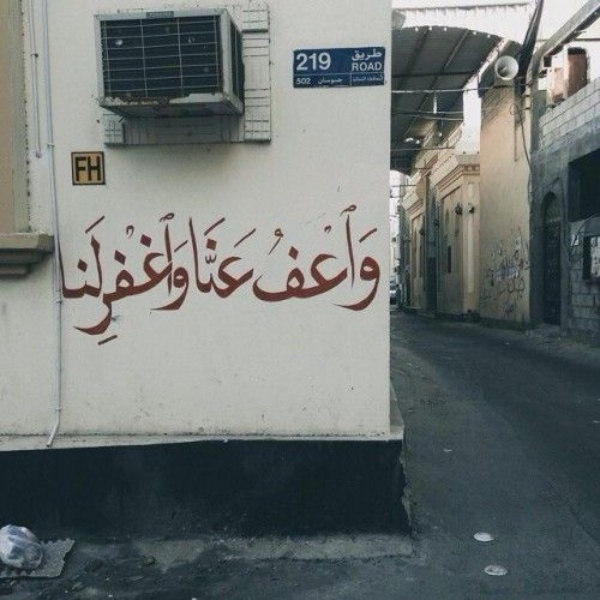text: (49, 212, 64, 361), (65, 212, 80, 361), (81, 212, 96, 361), (97, 212, 112, 361), (113, 212, 128, 361), (129, 212, 144, 361), (145, 212, 160, 361), (161, 212, 176, 361), (177, 212, 190, 361), (273, 200, 288, 315), (289, 200, 304, 315), (305, 200, 320, 315), (321, 200, 336, 315), (337, 200, 352, 315), (353, 200, 368, 315), (241, 211, 257, 301), (369, 200, 381, 315), (193, 211, 208, 301), (209, 211, 224, 301), (225, 211, 240, 301), (265, 200, 272, 315), (185, 211, 192, 301), (81, 155, 96, 183), (305, 52, 320, 71), (369, 47, 385, 61), (353, 47, 368, 61), (321, 52, 332, 71), (97, 155, 104, 183), (295, 52, 304, 71), (353, 62, 368, 73), (321, 76, 336, 87), (369, 75, 385, 85), (369, 62, 383, 73), (353, 75, 368, 85), (47, 212, 48, 361), (75, 155, 80, 183), (295, 76, 304, 86), (305, 76, 313, 86), (337, 76, 344, 87), (317, 76, 320, 87), (351, 47, 352, 61)
